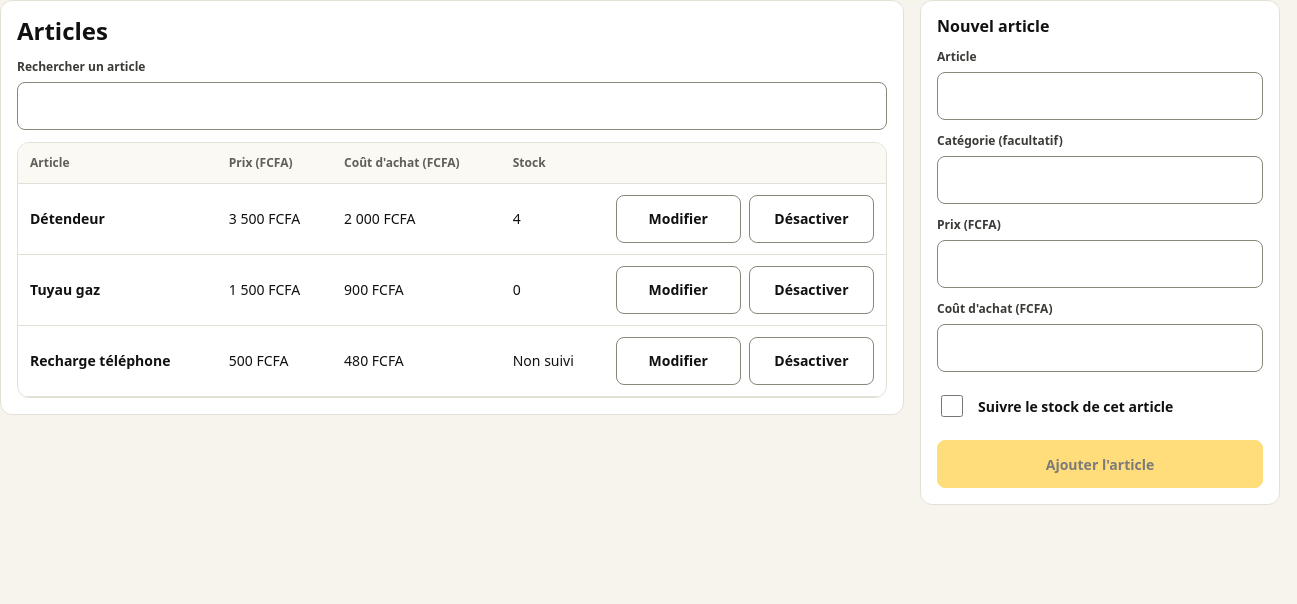
Test: CoCoMarket › modifie un prix, désactive, cherche et refuse un montant invalide
The image size is (1297, 604).
Click the button with aria-label "Modifier Détendeur" at (678, 219), box [616,195,741,243]
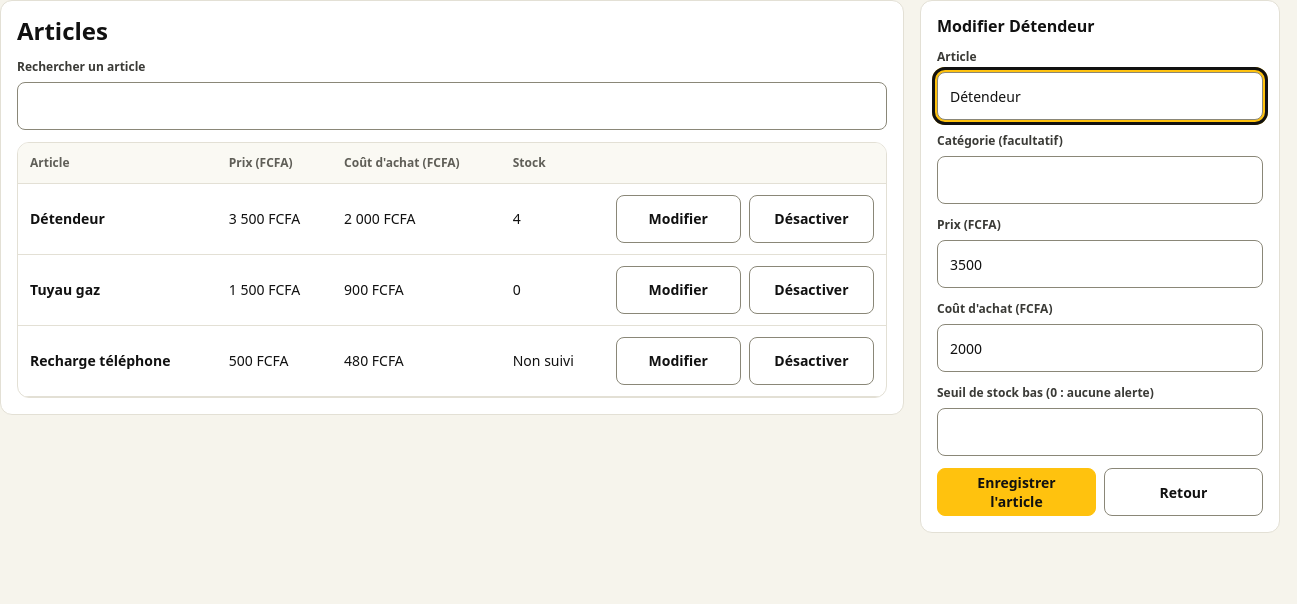
Replace the text in the field labelled "Prix (FCFA)" with "12,5" at (1100, 264), box [937,240,1263,288]
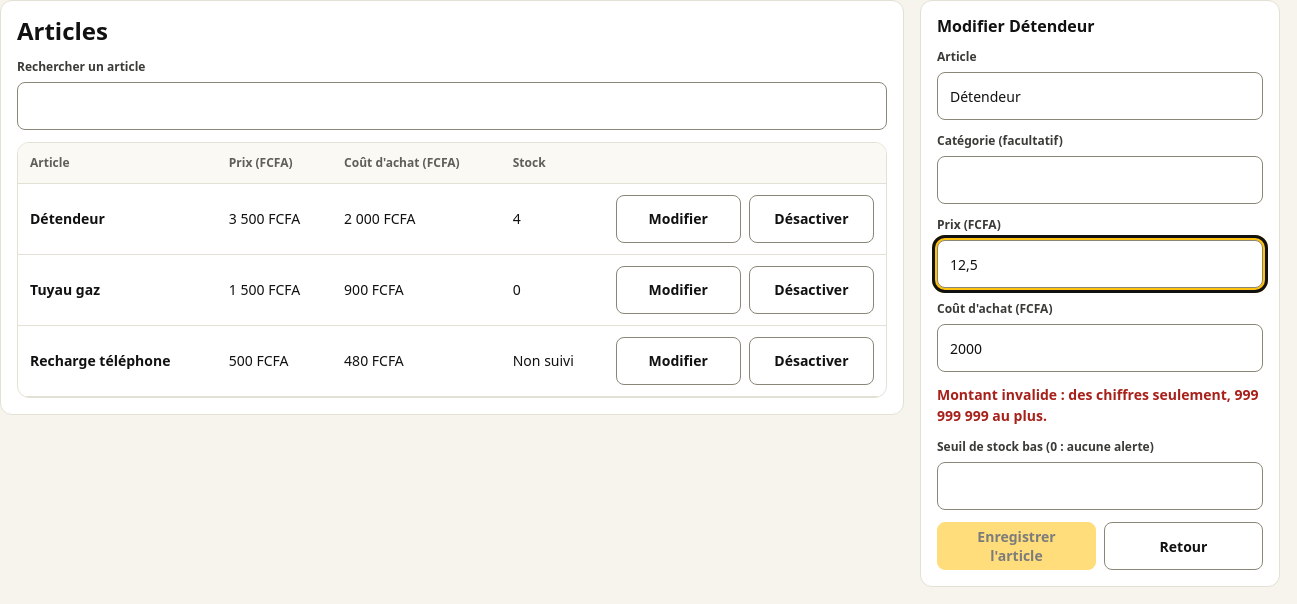
expect the button "Enregistrer l'article" is disabled: met, box [937,522,1096,570]
expect the text "Montant invalide : des chiffres seulement, 999 999 999 au plus." is shown: met, box [937,384,1263,426]
Replace the text in the field labelled "Prix (FCFA)" with "4000" at (1100, 264), box [937,240,1263,288]
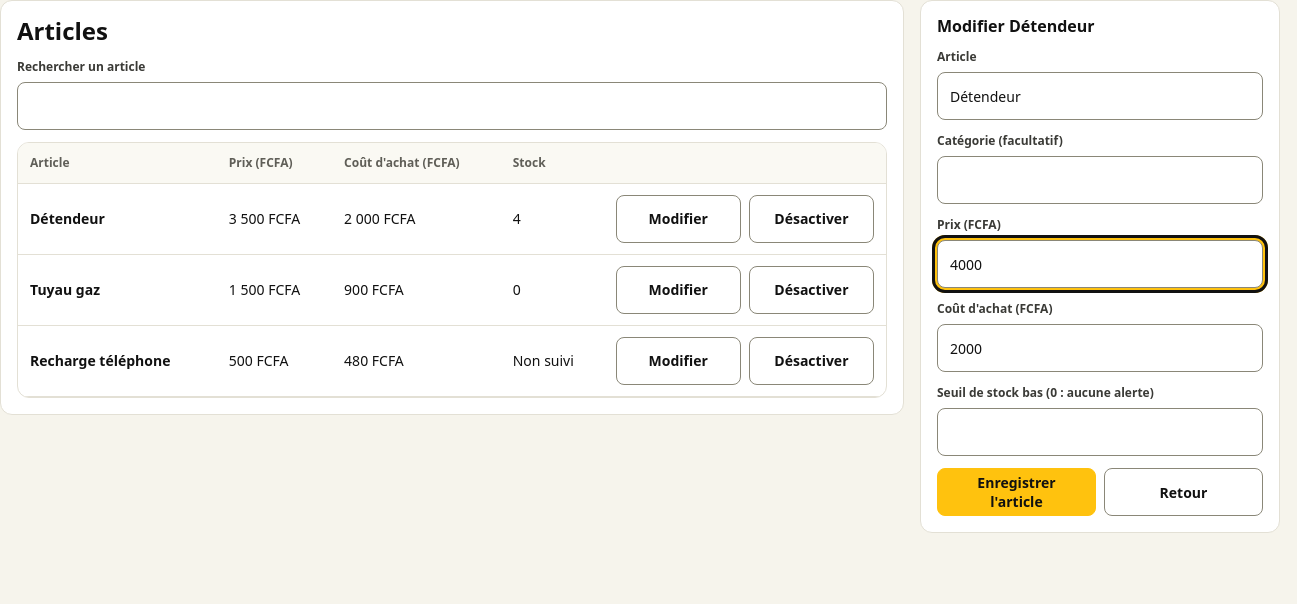
Click the button "Enregistrer l'article" at (1016, 492), box [937,468,1096,516]
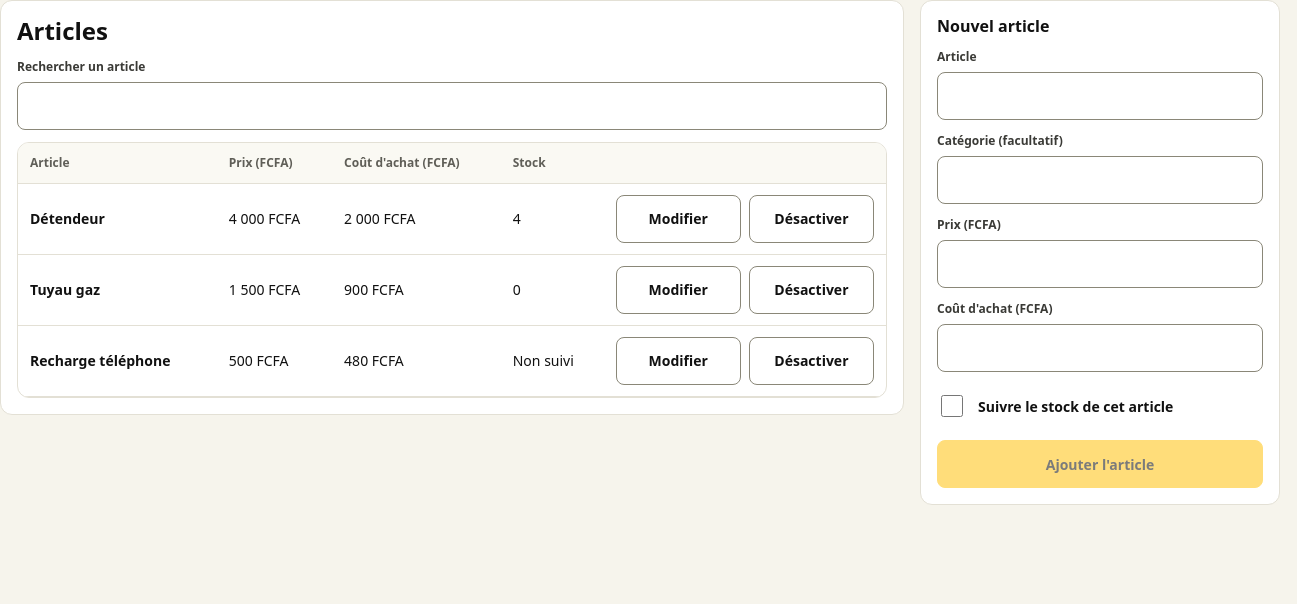
Click the button with aria-label "Désactiver Tuyau gaz" at (811, 290), box [749,266,874,314]
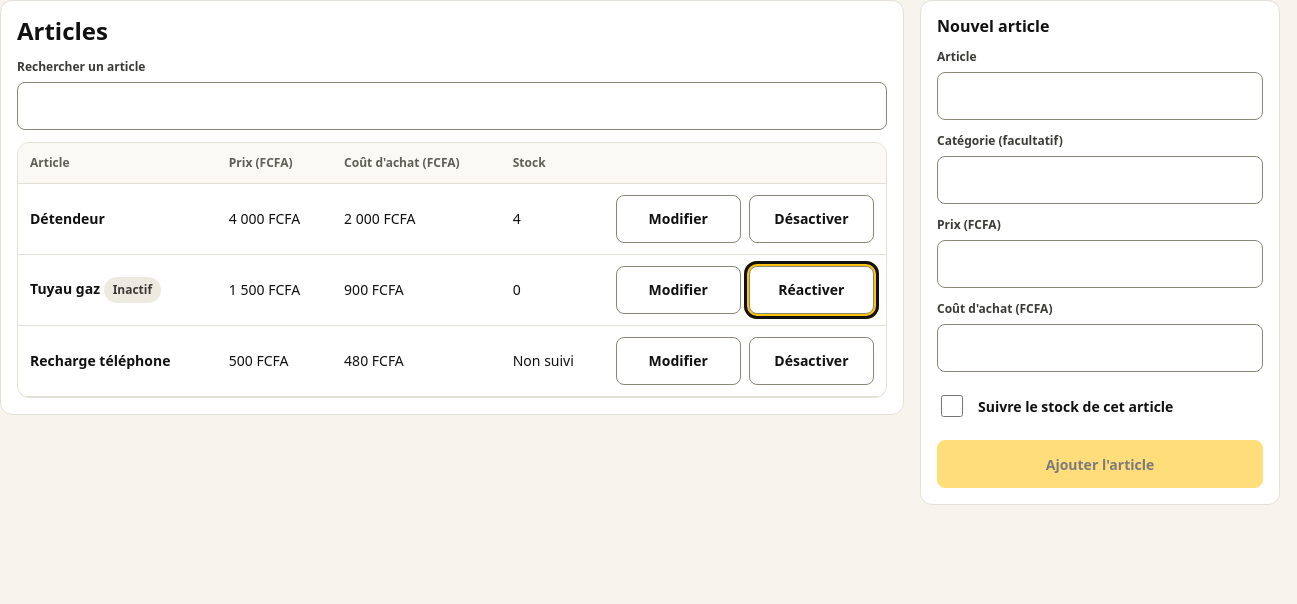
Type "zzz" into the search field at (452, 106), box [17,82,887,130]
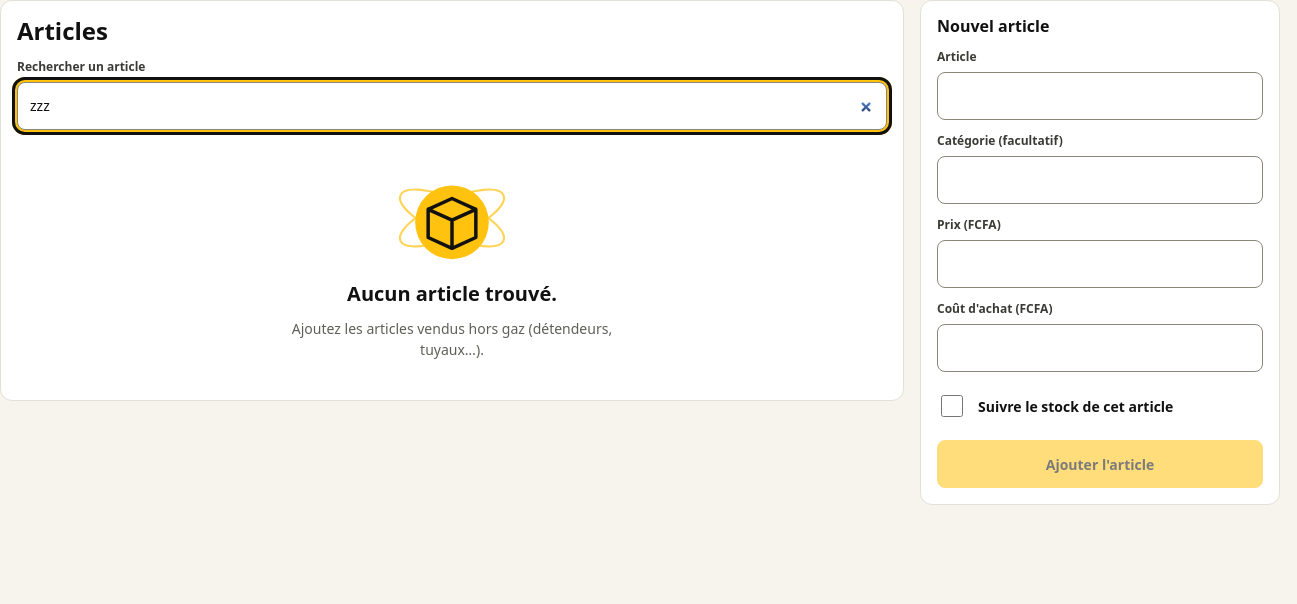
expect the heading "Aucun article trouvé." is shown: met, box [347,282,557,306]
